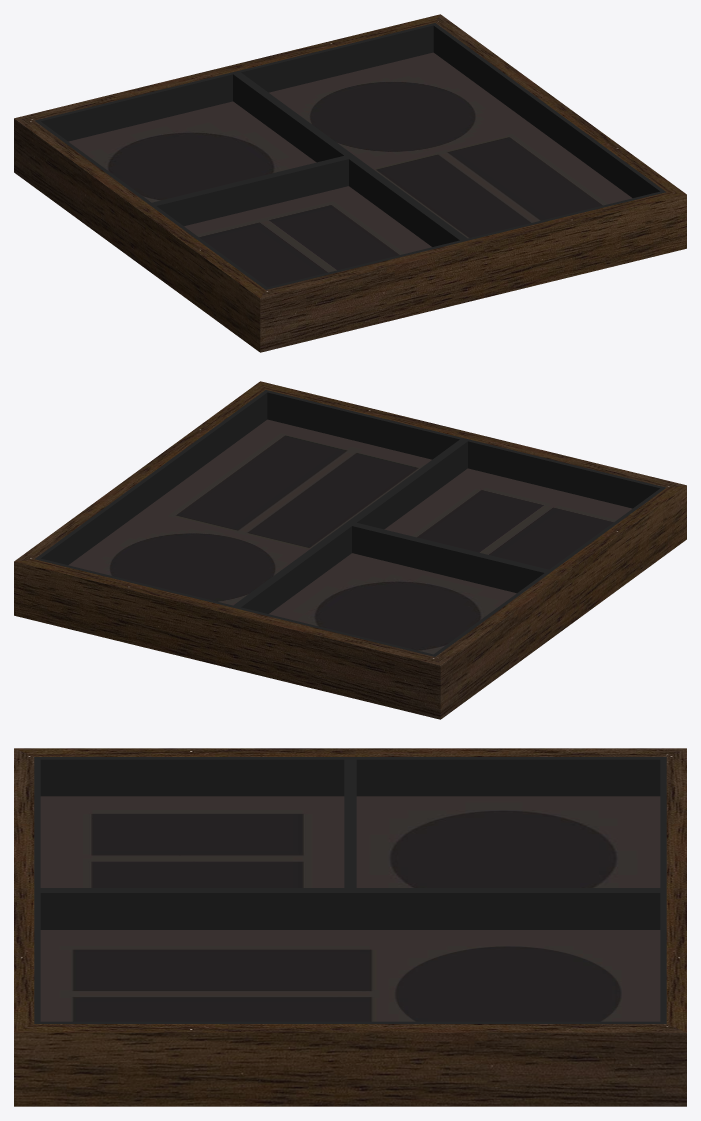
Rendered from Charcoal_Desk_Organizer.glb.
3 views of the same model, one above another, from view 1: azimuth 30°, elevation 25°; view 2: azimuth 150°, elevation 25°; view 3: azimuth 270°, elevation 25° (orthographic). The views are drawn at different scales.
Parts seen in each view (by area): view 1: model 4, Component#1 2, model 2, model 3, Component#1, Component#1 3 (×2); view 2: model 4, Component#1 3 (×2), model 2, model 3, Component#1, Component#1 2; view 3: model 4, Component#1 3 (×2), model 2, model 3, Component#1, Component#1 2.
Boxes of the visible parts, box(x1,y1,x2,y2) form: model 4: box(235, 23, 666, 240); Component#1 2: box(260, 192, 686, 352); model 2: box(150, 156, 465, 289); model 3: box(35, 71, 349, 205); Component#1: box(14, 118, 265, 352); Component#1 3 (×2): box(15, 14, 686, 194); model 4: box(34, 390, 465, 607); Component#1 3 (×2): box(14, 381, 440, 719); model 2: box(351, 438, 665, 572); model 3: box(235, 523, 550, 656); Component#1: box(435, 485, 686, 719); Component#1 2: box(260, 381, 685, 487); model 4: box(34, 890, 666, 1023); Component#1 3 (×2): box(14, 748, 686, 1106); model 2: box(34, 757, 350, 890); model 3: box(350, 757, 666, 890); Component#1: box(14, 748, 686, 756); Component#1 2: box(14, 748, 34, 1032).
Bounding box in the file's own units: 0.33 × 0.04 × 0.33.
5 materials, 4 textured.
